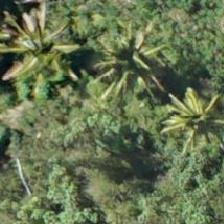coconut_tree: (87, 18, 177, 108), (3, 9, 93, 99), (151, 79, 223, 169)
